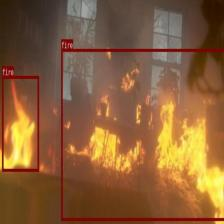fire: (60, 48, 224, 219), (2, 75, 39, 171)
